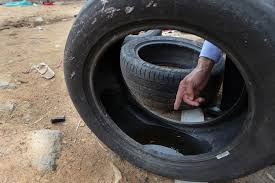tire: (64, 1, 274, 183), (118, 36, 224, 109)
